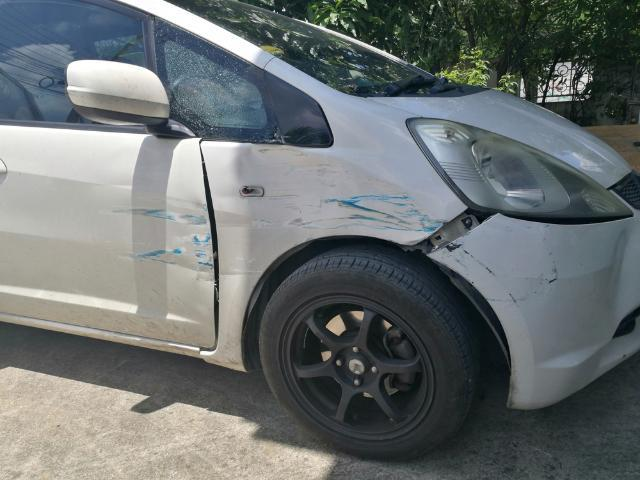dent: (235, 150, 435, 307)
dislocated part: (410, 208, 640, 412)
glass shatter: (153, 16, 285, 143)
scratch: (103, 180, 215, 284), (437, 239, 564, 309)
